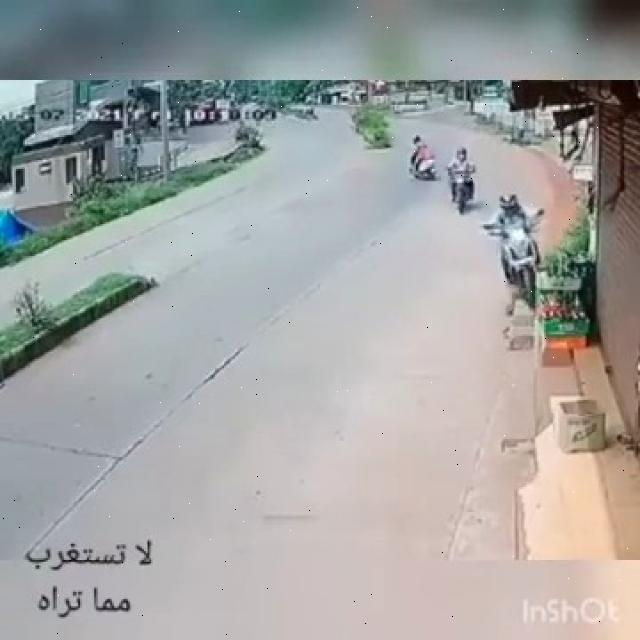accident: (475, 188, 581, 341)
